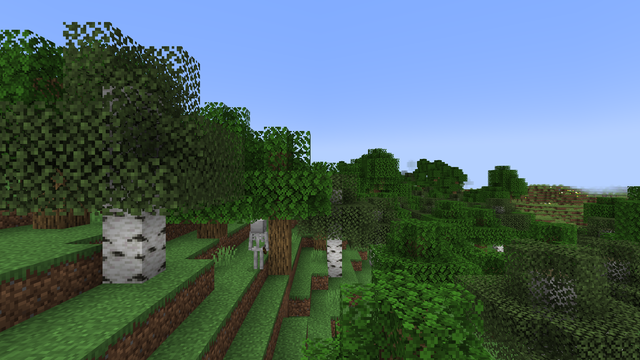squelettes: (249, 218, 267, 270)
